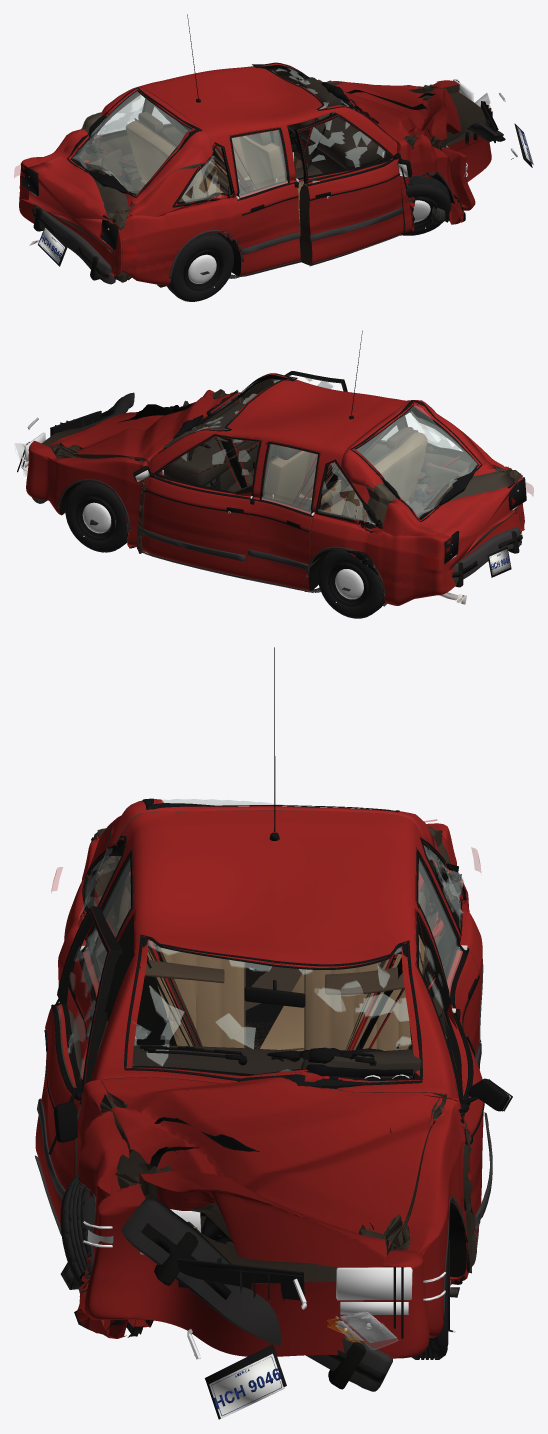
The model's file is hatchback85_front_corner_R_d2_lod1.glb.
The picture shows the model from 3 angles, top to bottom: view 1: azimuth 30°, elevation 25°; view 2: azimuth 150°, elevation 25°; view 3: azimuth 270°, elevation 25°; orthographic projection. The views are drawn at different scales.
Parts seen in each view (by area): view 1: Body, Interior, Hatch, Door_FR, Glass_Hatch, Hood, Door_RR, Wheel_RR_mesh, Glass_RR, Ends, Glass, Trim_FR (+7 smaller); view 2: Body, Interior, Door_FL, Hatch, Glass_Hatch, Hood, Door_RL, Wheel_FL_mesh, Wheel_RL_mesh, Glass_RL, Glass, Ends (+9 smaller); view 3: Body, Hood, Interior, Ends, Glass, Bumper_F, Door_FR, Trim, Door_FL, Trim_FR, Trim_FL, Door_RL (+11 smaller).
Part boxes in pixels (x1,y1,x2,y2): Body: (19,63,491,285); Interior: (90,70,382,222); Hatch: (28,86,213,250); Door_FR: (294,113,403,265); Glass_Hatch: (67,87,202,197); Hood: (319,81,460,147); Door_RR: (229,127,300,276); Wheel_RR_mesh: (166,232,233,301); Glass_RR: (229,130,289,198); Ends: (20,79,533,266); Glass: (94,62,386,206); Trim_FR: (298,115,412,266); Body: (26,374,524,605); Interior: (163,381,460,521); Door_FL: (138,434,262,577); Hatch: (340,400,517,569); Glass_Hatch: (350,400,482,521); Hood: (48,390,238,460); Door_RL: (246,441,320,590); Wheel_FL_mesh: (65,481,127,552); Wheel_RL_mesh: (317,549,384,618); Glass_RL: (259,442,320,514); Glass: (158,373,459,528); Ends: (15,410,526,577); Body: (58,810,482,1358); Hood: (101,1077,444,1267); Interior: (115,885,427,1078); Ends: (83,837,445,1419); Glass: (79,839,466,1088); Bumper_F: (121,1197,392,1391); Door_FR: (35,906,122,1225); Trim: (59,647,483,1320); Door_FL: (415,909,483,1270); Trim_FR: (35,907,109,1235); Trim_FL: (416,911,512,1273); Door_RL: (415,848,479,1068).
Bounding box in the file's own units: 4.37 × 2.15 × 1.89.
33 materials, 5 textured.
